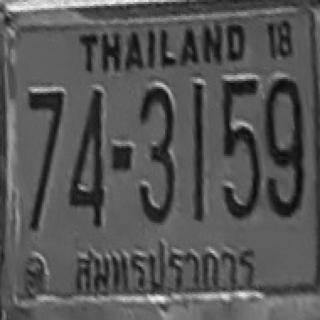N01: (192, 82, 208, 220)
N03: (137, 86, 174, 222)
N04: (67, 88, 106, 231)
N05: (221, 76, 259, 220)
N07: (27, 90, 62, 230)
N09: (264, 79, 303, 217)
P57: (67, 235, 260, 299)
